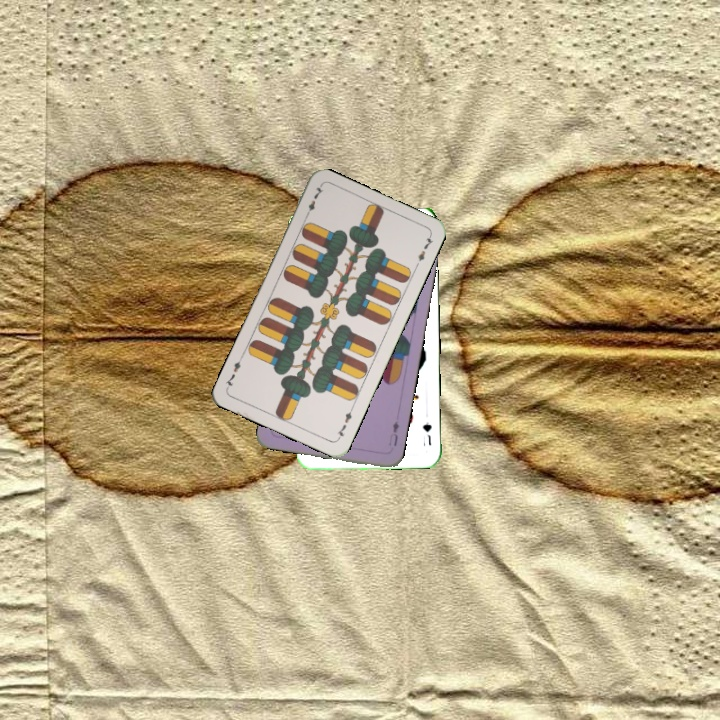E7: (301, 182, 326, 220), (332, 403, 356, 442)
EU: (385, 413, 402, 449)
GU: (419, 418, 434, 448)
